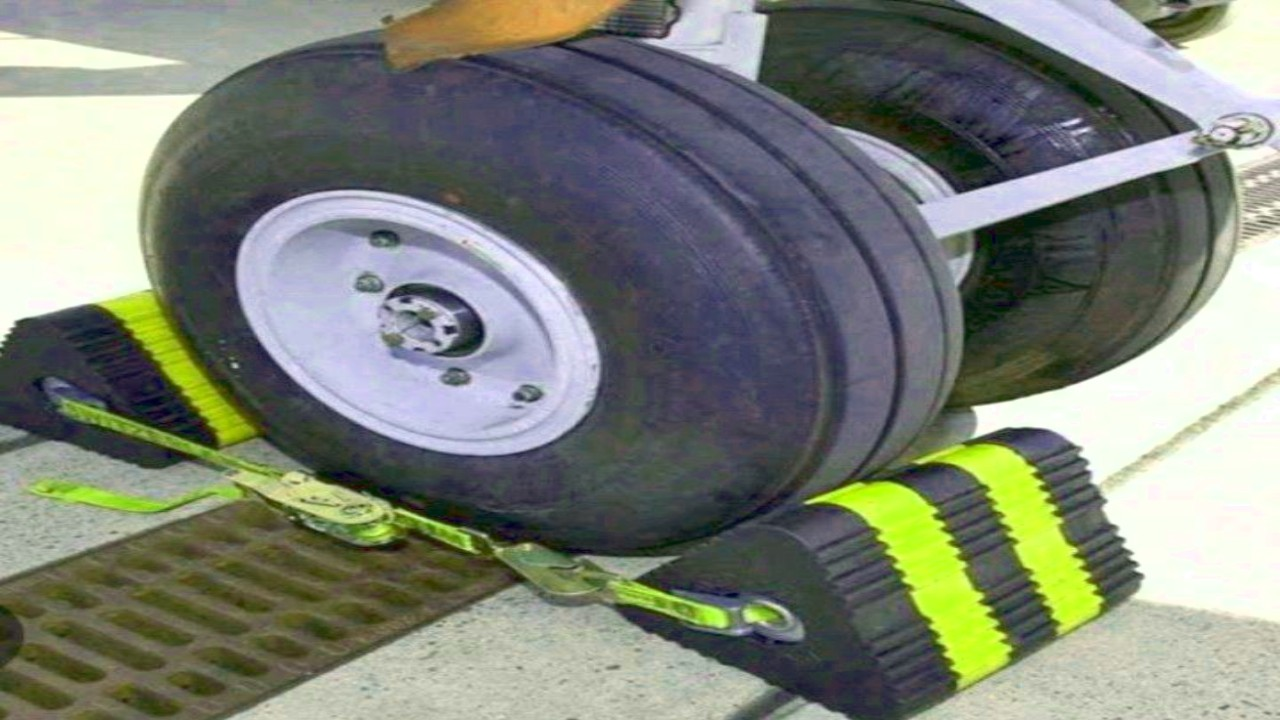chock: (608, 427, 1148, 720), (0, 285, 322, 471)
wheel: (132, 25, 946, 544), (763, 6, 1221, 399)
